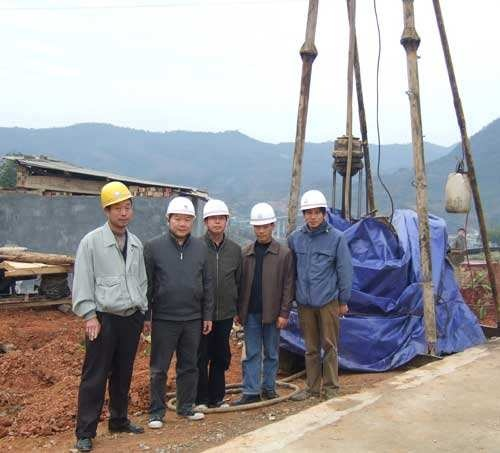white: (164, 193, 195, 238), (247, 199, 278, 244), (298, 188, 328, 229), (201, 197, 229, 237)
yellow: (99, 179, 134, 230)
